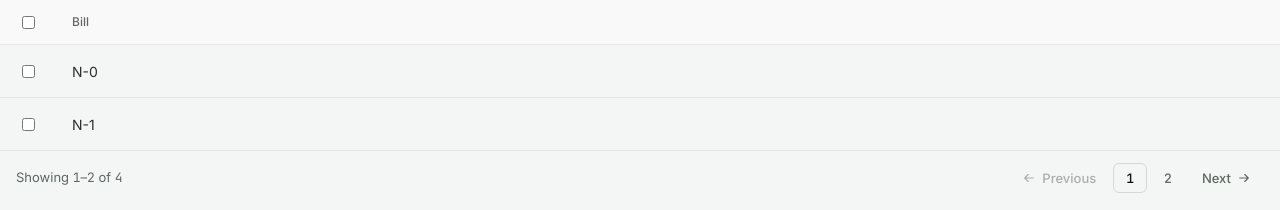
it: DataTable selection › header acts on the current page only and keeps keys from other pages
Later steps or results of the test are not shown.
Click the checkbox named "Select all on this page" at x=28, y=22, box [22, 16, 34, 28]
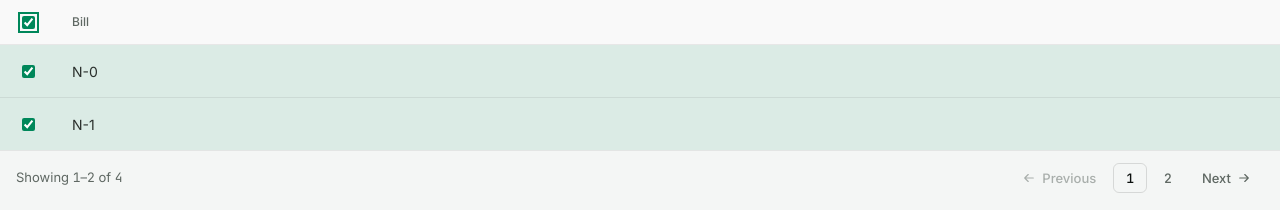
Click the button "Next" at x=1226, y=178, box [1189, 163, 1264, 193]
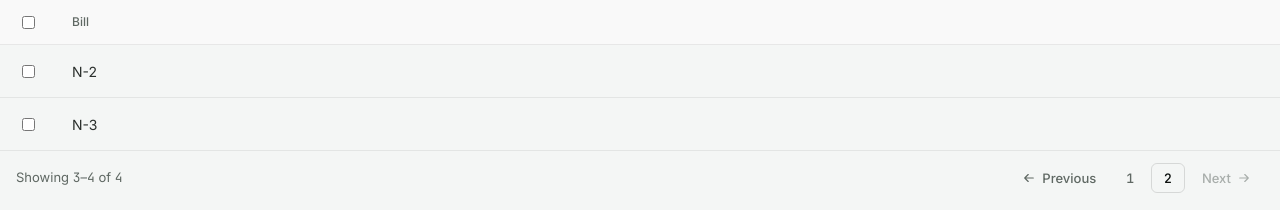
Result: the checkbox named "Select all on this page" is not checked at [22, 16, 34, 28]
